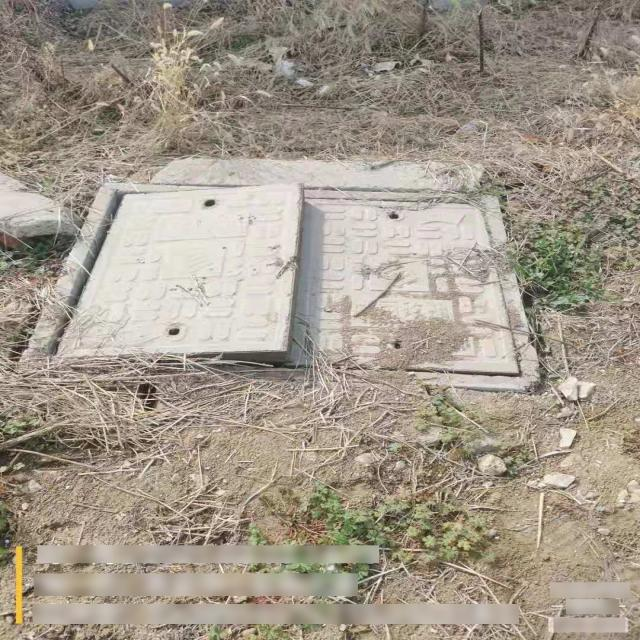Lose: (12, 180, 540, 389)
